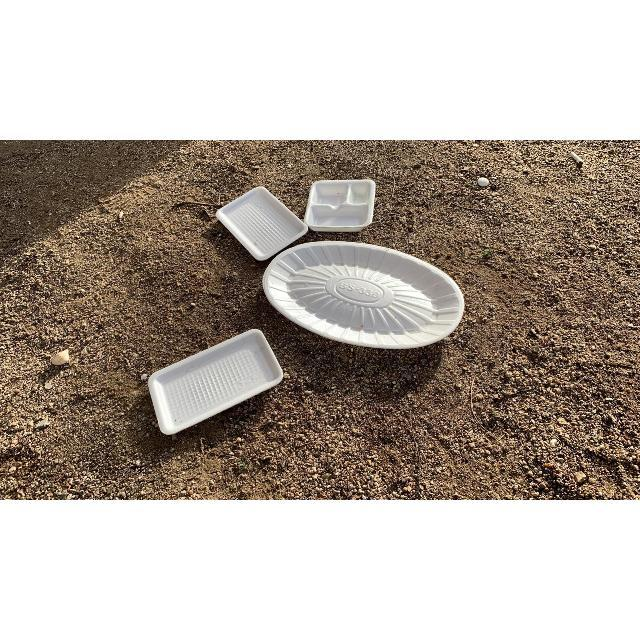Plastico descartable: (261, 239, 465, 351), (145, 330, 284, 437), (214, 188, 311, 264), (304, 180, 376, 233)
